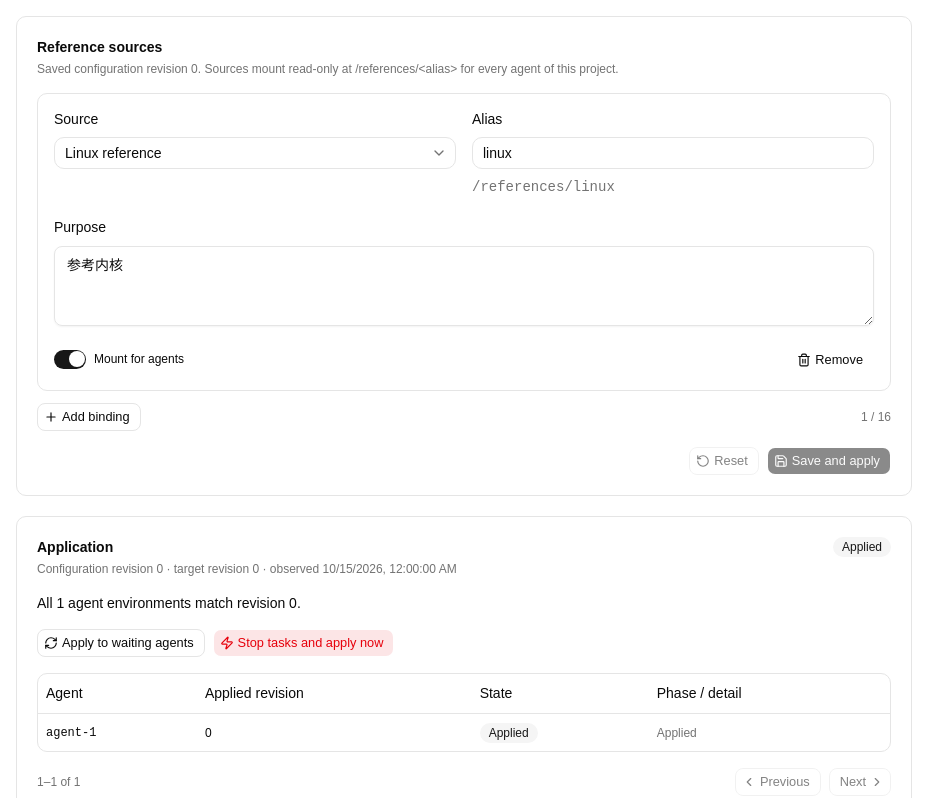
Test: project references panel › merges edits typed while the save request is in flight
Replace the text in the field labelled "Alias" with "kernel". click: (673, 153)
box: 472,137 -> 874,169
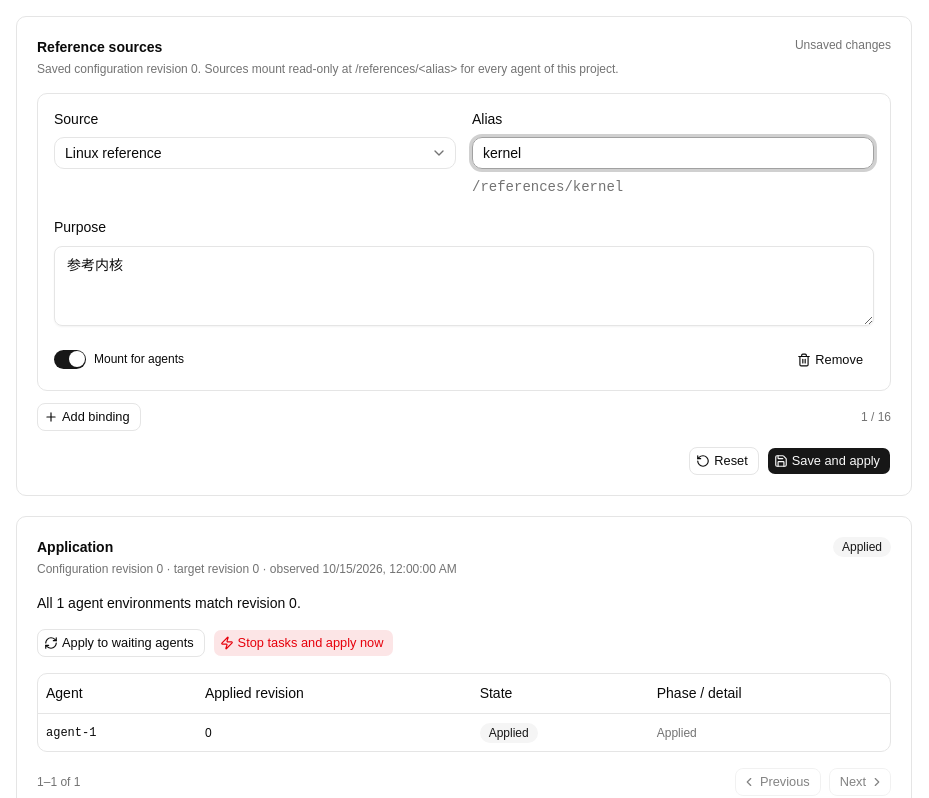
Click the button "Save and apply". click: click(829, 460)
box: 767,446 -> 891,474
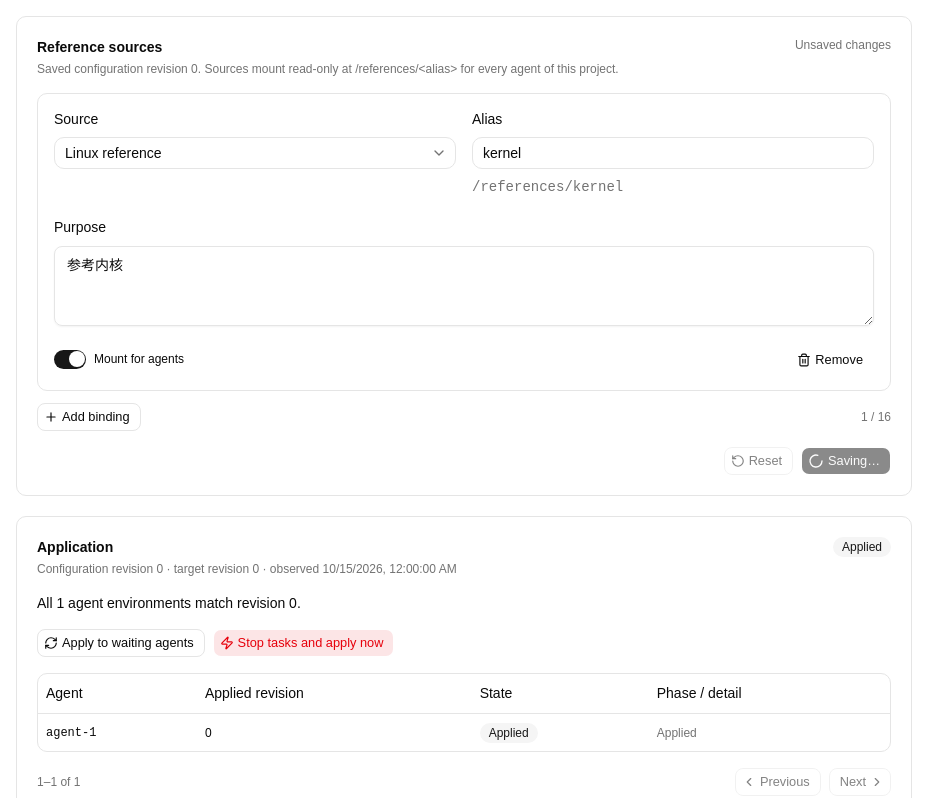
Type "2" into the field labelled "Alias". click: (673, 153)
box: 472,137 -> 874,169
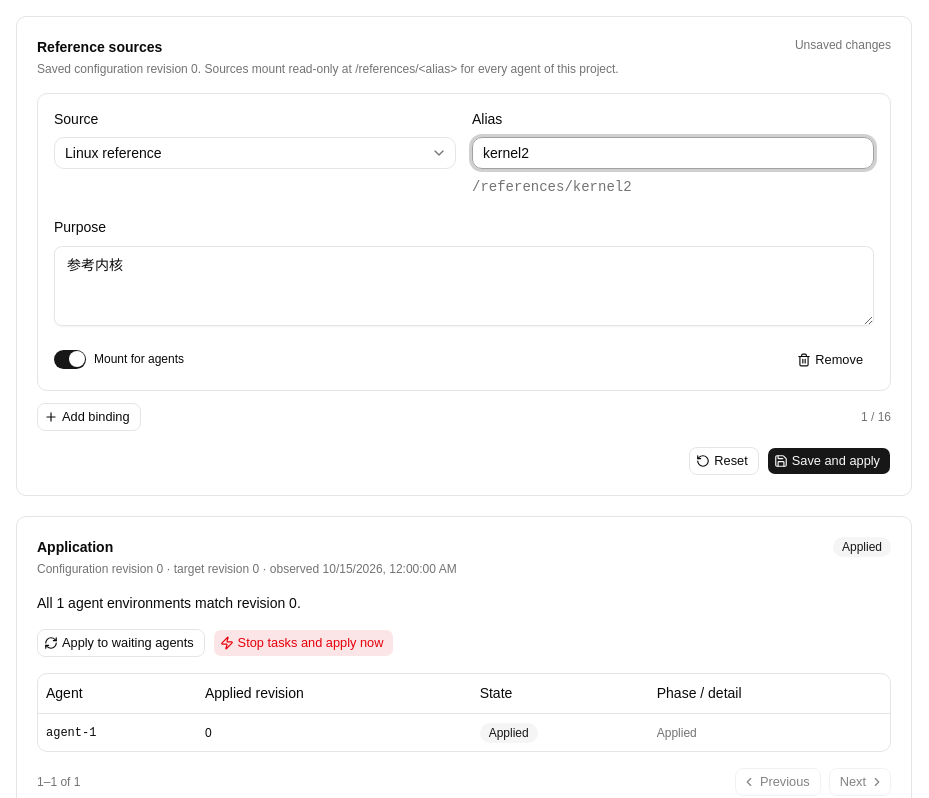
Now the text "Unsaved changes" is shown, box 795,37 -> 891,53
Now the button "Save and apply" is enabled, box 767,446 -> 891,474
Now the field labelled "Alias" holds "kernel2", box 472,137 -> 874,169
